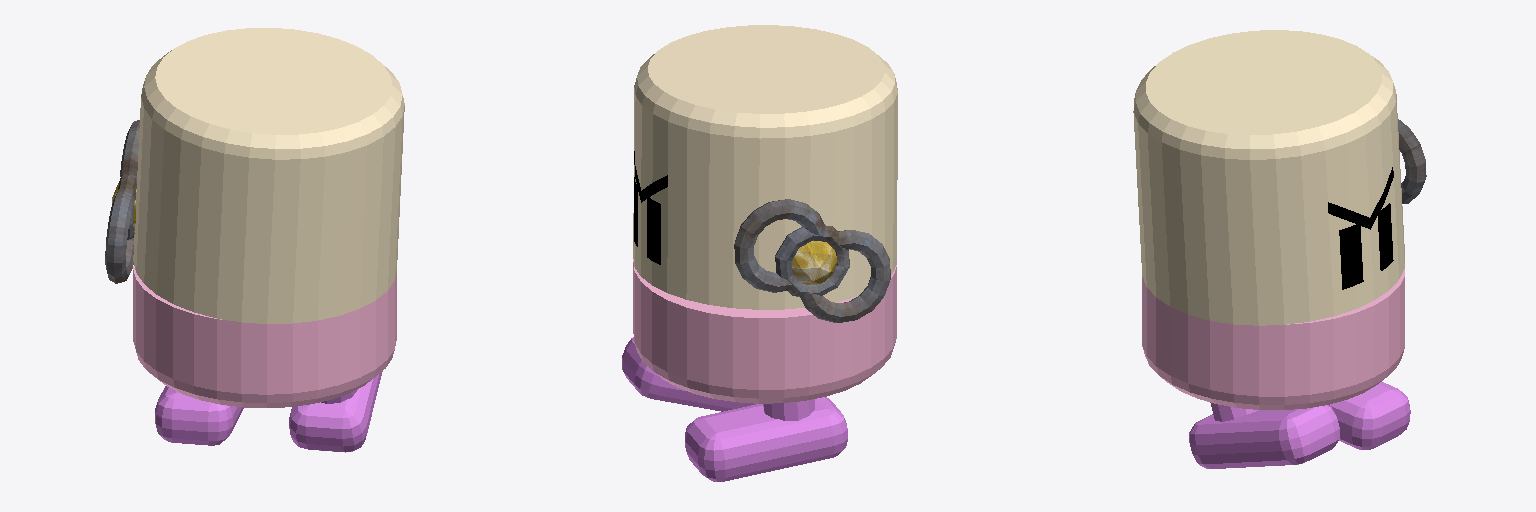
3 renders of one model, left to right at view 1: azimuth 30°, elevation 25°; view 2: azimuth 150°, elevation 25°; view 3: azimuth 270°, elevation 25°, orthographic.
Parts seen in each view (by area): view 1: Head, Jaw, RightLeg, LeftLeg, WindupKey; view 2: Head, Jaw, WindupKey, LeftLeg, RightLeg; view 3: Head, Jaw, RightLeg, LeftLeg, WindupKey.
Boxes of the visible parts, x1,y1,x2,y2 form: Head: [133, 28, 404, 323]; Jaw: [133, 266, 396, 407]; RightLeg: [289, 371, 382, 452]; LeftLeg: [155, 386, 243, 445]; WindupKey: [105, 120, 139, 283]; Head: [633, 25, 897, 309]; Jaw: [633, 259, 896, 403]; WindupKey: [734, 199, 890, 322]; LeftLeg: [685, 397, 847, 481]; RightLeg: [622, 337, 755, 411]; Head: [1133, 30, 1404, 325]; Jaw: [1142, 269, 1404, 409]; RightLeg: [1189, 402, 1339, 468]; LeftLeg: [1329, 382, 1410, 449]; WindupKey: [1398, 119, 1426, 203].
Size of the model in its own units: 119 by 154 by 111.
Materials: 6 (2 with a texture image).